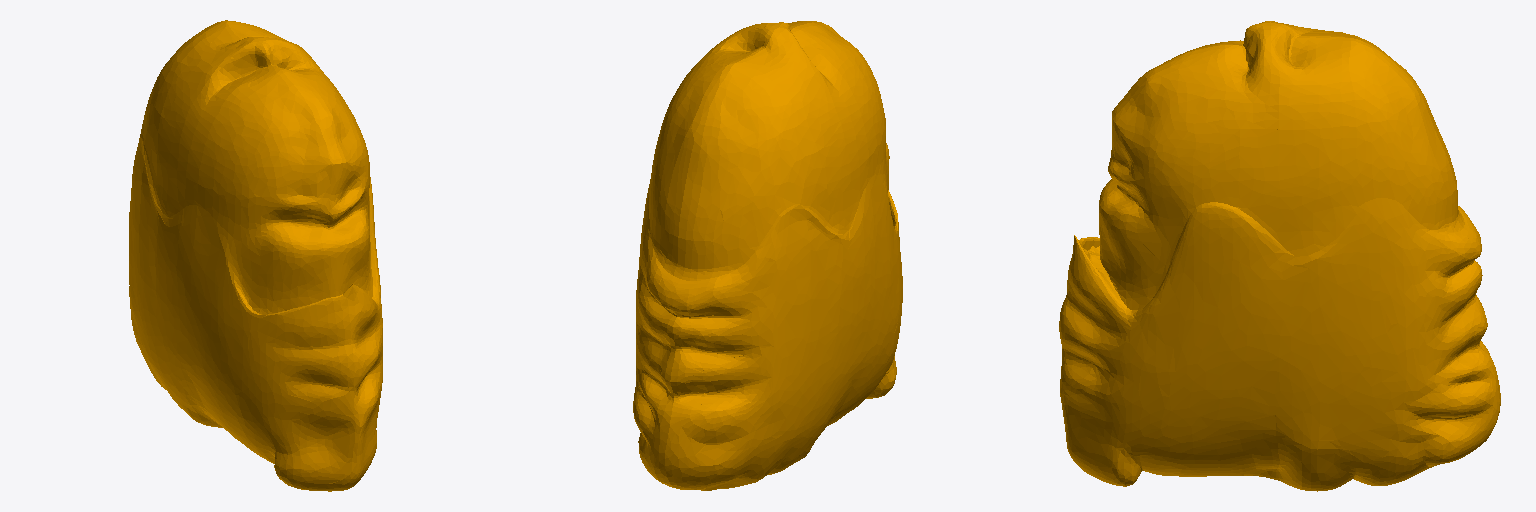
The robot description file, URDF, robot "sample":
<?xml version='1.0' encoding='utf-8'?>
<robot name="sample">
    <link name="sample">
        <visual>
            <origin xyz="0 0 0" rpy="1.5708 0.0 0.0" />
            <geometry>
                <mesh filename="mesh/sample.obj" scale="1.0 1.0 1.0" />
            </geometry>
        </visual>
        <collision>
            <origin xyz="0 0 0" rpy="1.5708 0.0 0.0" />
            <geometry>
                <mesh filename="mesh/sample_collision.obj" scale="1.0 1.0 1.0" />
            </geometry>
            <gazebo>
                <mu1>0.80</mu1> 
                <mu2>0.60</mu2> 
            </gazebo>
        </collision>
        <inertial>
            <mass value="1.0000" />
            <origin xyz="0 0 0" />
            <inertia ixx="1.0" ixy="0.0" ixz="0.0" iyy="1.0" iyz="0.0" izz="1.0" />
        </inertial>
        <extra_info>
            <scale>1.000000</scale>
            <version>v0.1.7</version>
            <category>toy</category>
            <description>toy</description>
            <min_height>1.0</min_height>
            <max_height>1.0</max_height>
            <real_height>1.0</real_height>
            <min_mass>1.0</min_mass>
            <max_mass>1.0</max_mass>
            <color>unknown</color>
            <rgba>[0.5, 0.5, 0.5, 1.0]</rgba>
            <generate_time>20260813173809</generate_time>
            <gs_model>""</gs_model>
        </extra_info>
    </link>
</robot>

--- Render facts (derived) ---
3 views of the same robot in one strip: view 1: azimuth 30°, elevation 25°; view 2: azimuth 150°, elevation 25°; view 3: azimuth 270°, elevation 25° (orthographic).
Robot: sample — 1 links, 0 joints (none); root link sample; default pose: all joints at 0.
Visible links, largest first — view 1: sample; view 2: sample; view 3: sample.
Boxes of the visible links, left/top/right/bottom form: sample: left=129, top=20, right=382, bottom=491; sample: left=633, top=21, right=902, bottom=490; sample: left=1059, top=21, right=1500, bottom=491.
Size in the robot's own frame: 0.4499 by 0.8966 by 1 metres.
Meshes: 1 distinct files referenced, 1 mesh visuals loaded (1 OBJ).
